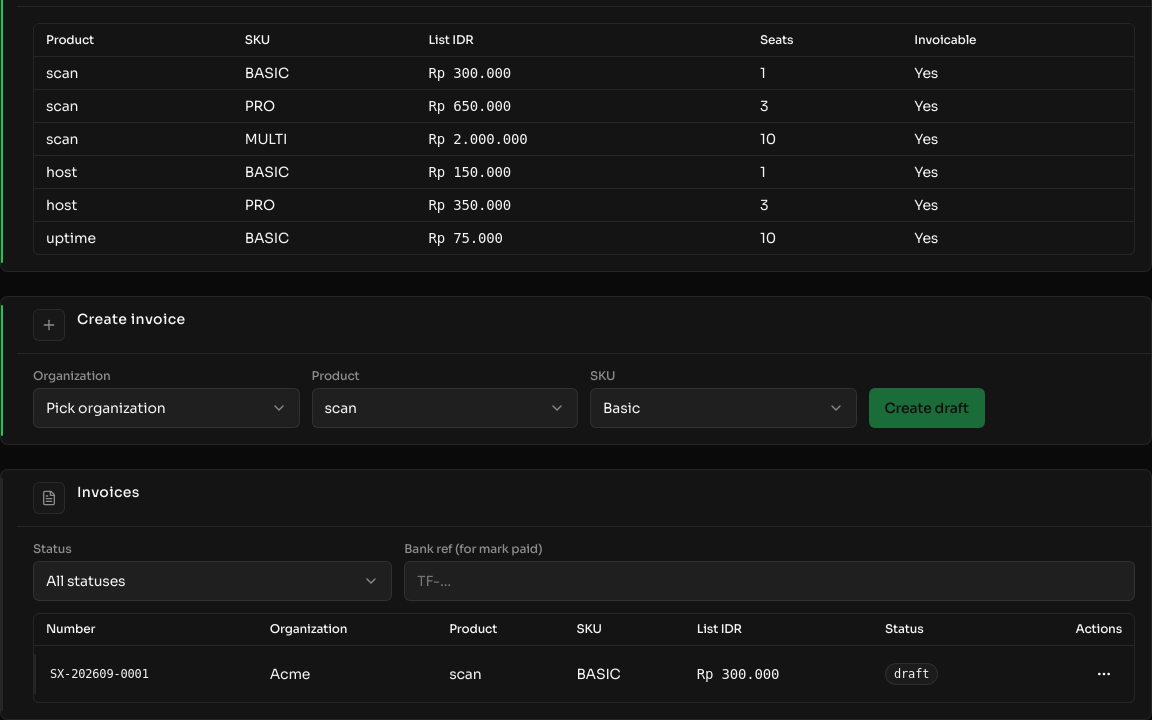
it: AdminInvoices › renders page, catalog, and create control
(page scrolled)
Expected: the text "SX-202609-0001" is shown, [34,646,258,702]
Expected: the button with test id "invoice-create" is disabled, [868,388,985,428]
Click the button with test id "invoice-actions-inv-1". click: {"x": 1104, "y": 674}
box: [1086,652,1122,696]
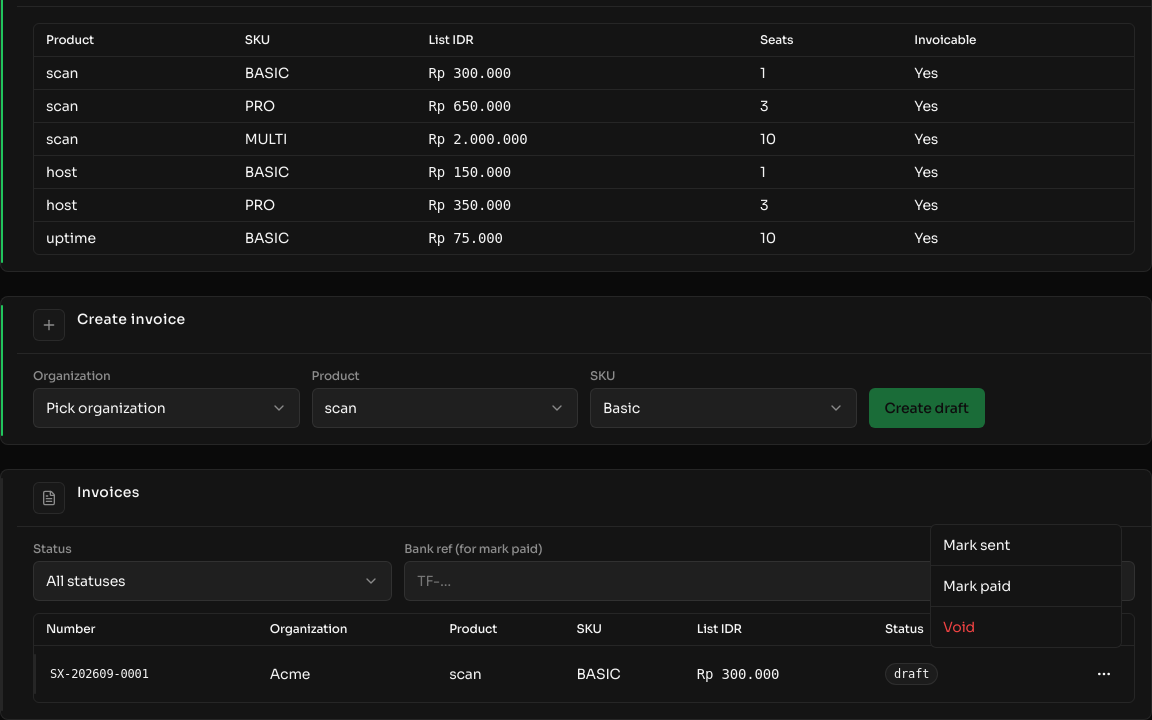
Expected: the menu item with test id "invoice-paid-inv-1" is shown, [943,577,1011,595]
